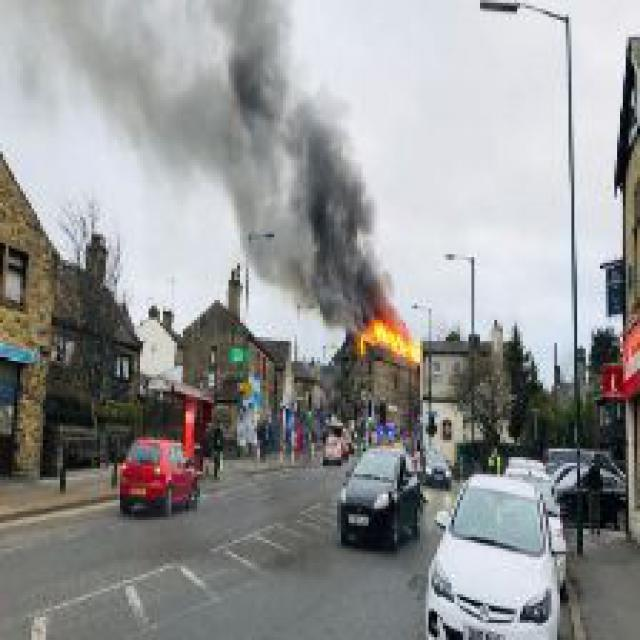fire: (328, 283, 428, 377)
